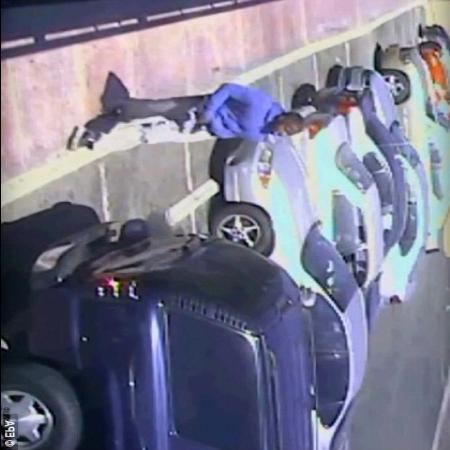Pistol: (188, 112, 212, 140)
